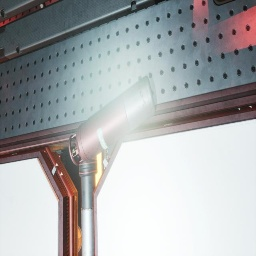NitrogenTank ,: (68, 76, 156, 166)
